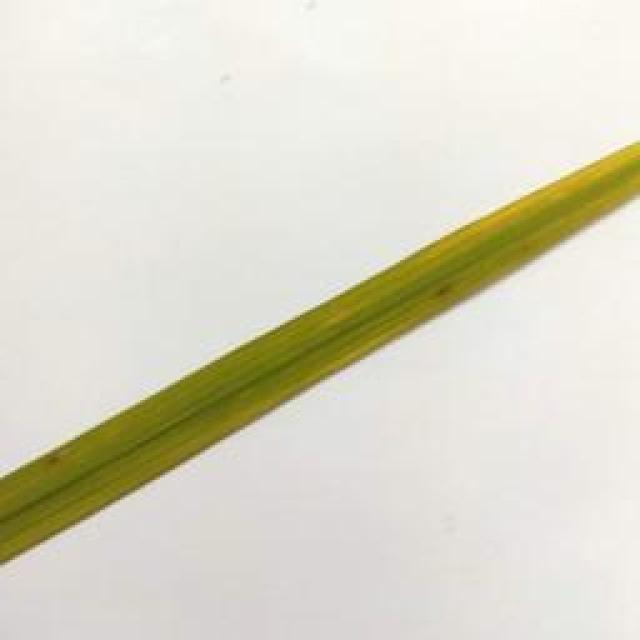Bacterial_Blight: (323, 136, 640, 332)
Brown_Spot: (430, 283, 454, 309), (48, 446, 62, 480)
